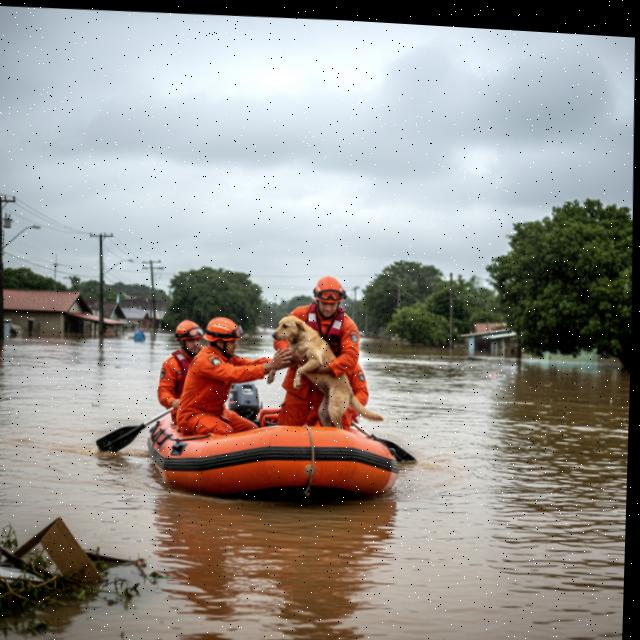dog: (263, 311, 388, 440)
rescuer: (269, 267, 373, 434), (171, 306, 282, 448), (151, 313, 212, 439)
